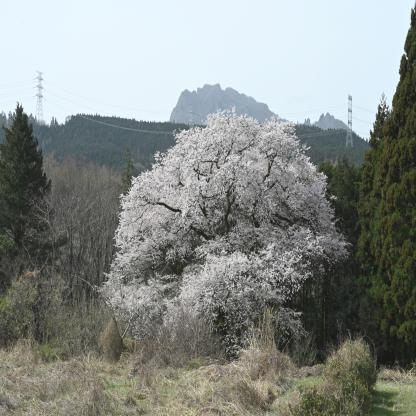EdohiganSakura: (96, 101, 352, 352)
